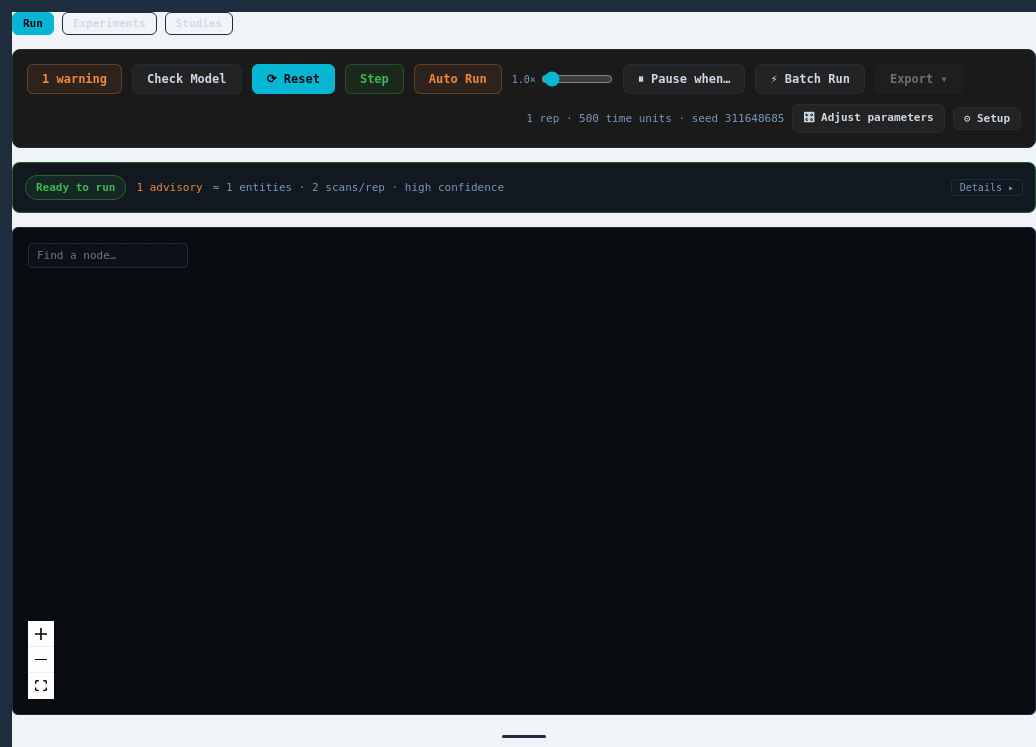
Test: accessibility pass › defaults token-animation off when the OS signals prefers-reduced-motion
Click the button "⚙ Setup" at (987, 118), box [953,107,1021,130]
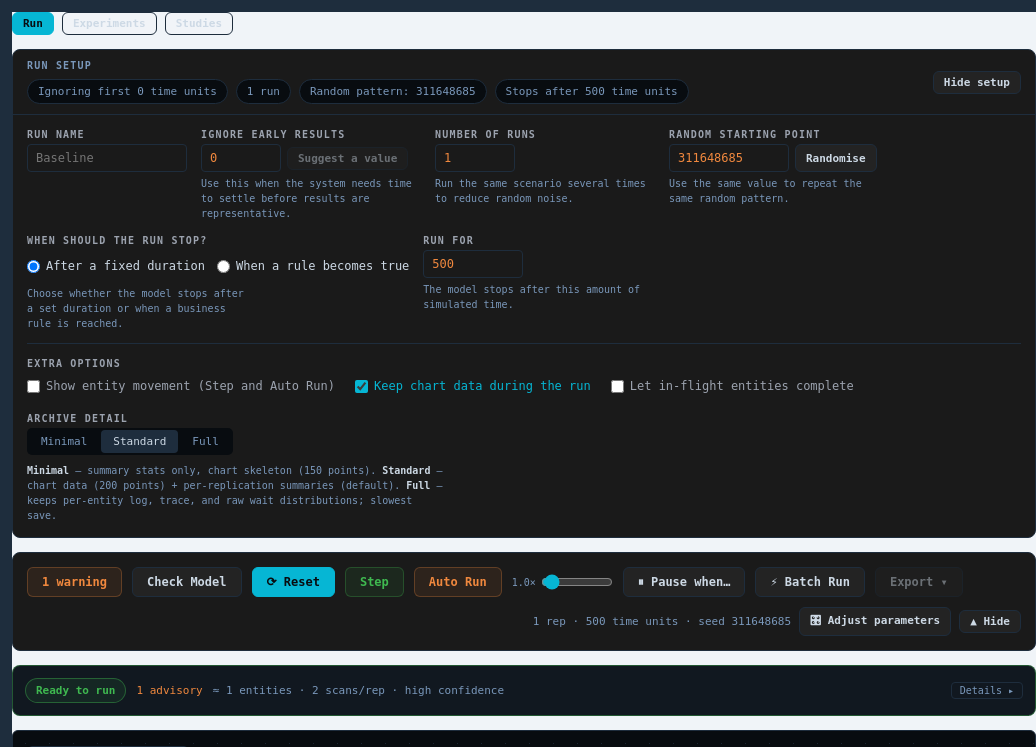
Now the checkbox labelled "Show entity movement (Step and Auto Run)" is not checked, box [27,380,40,392]
